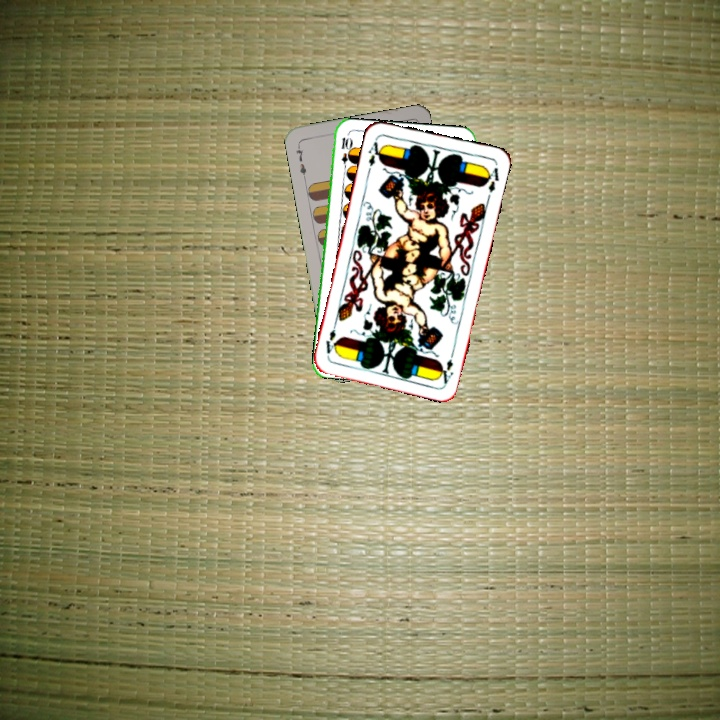E10: (337, 133, 352, 174)
E7: (292, 141, 309, 181)
EA: (364, 138, 386, 169), (436, 355, 456, 386)
